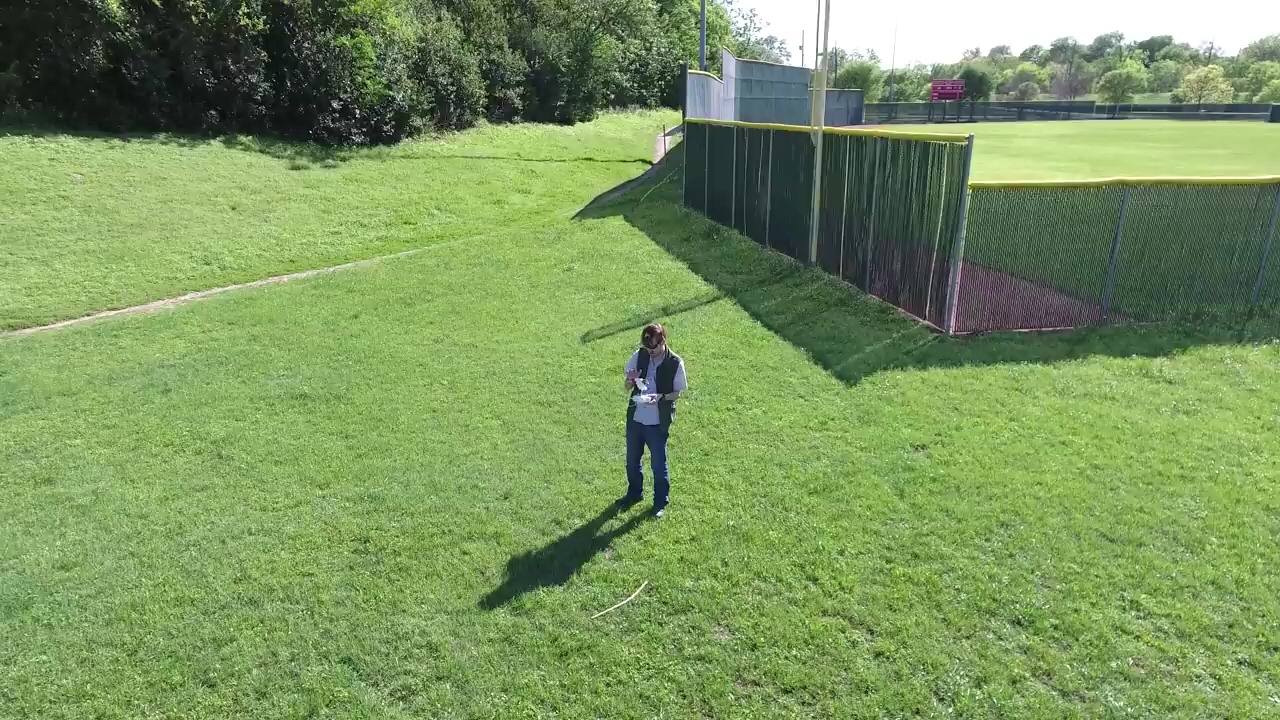insan: (625, 322, 689, 518)
